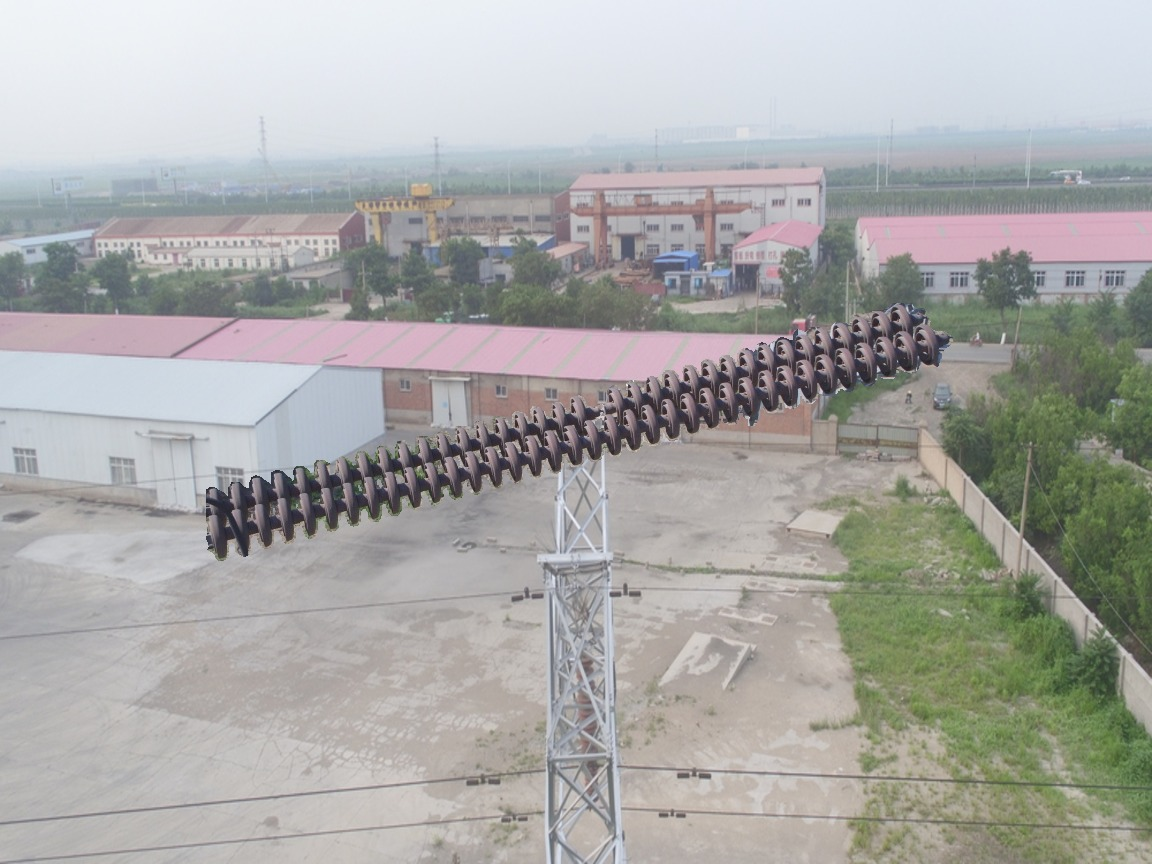defect: (567, 387, 627, 429)
